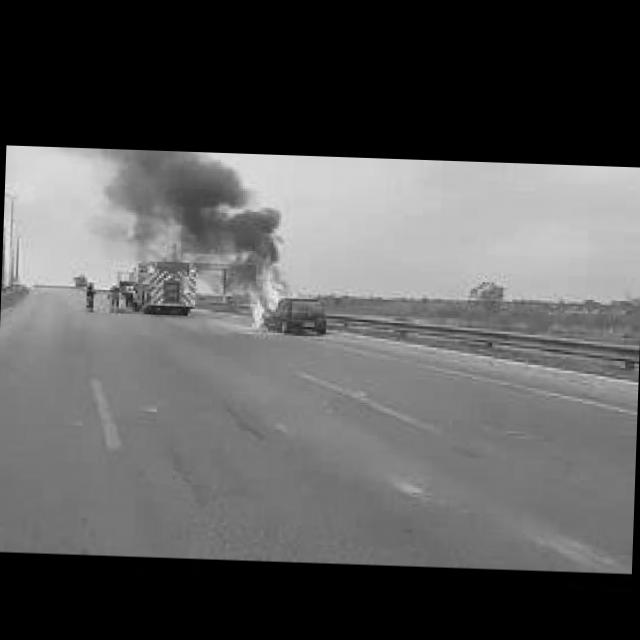fire: (242, 257, 296, 330)
smoke: (100, 146, 284, 275)
